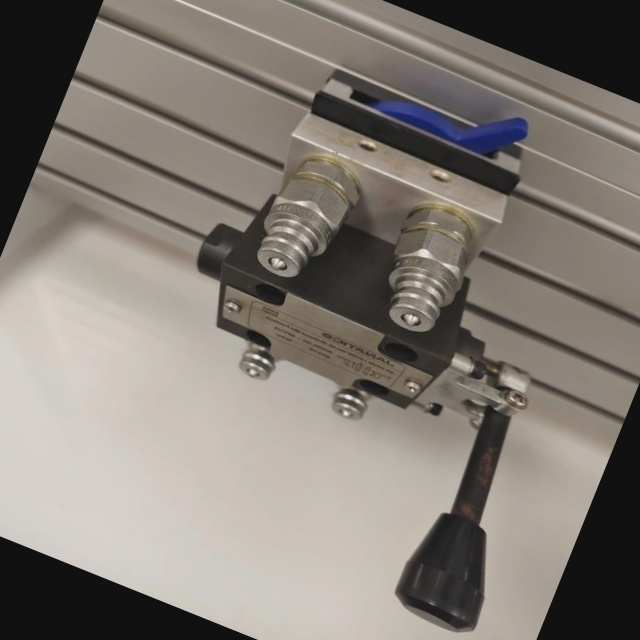4by3 hand lever valve: (93, 21, 640, 640)
